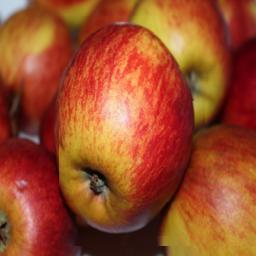Apple Fresh: (59, 17, 208, 247)
